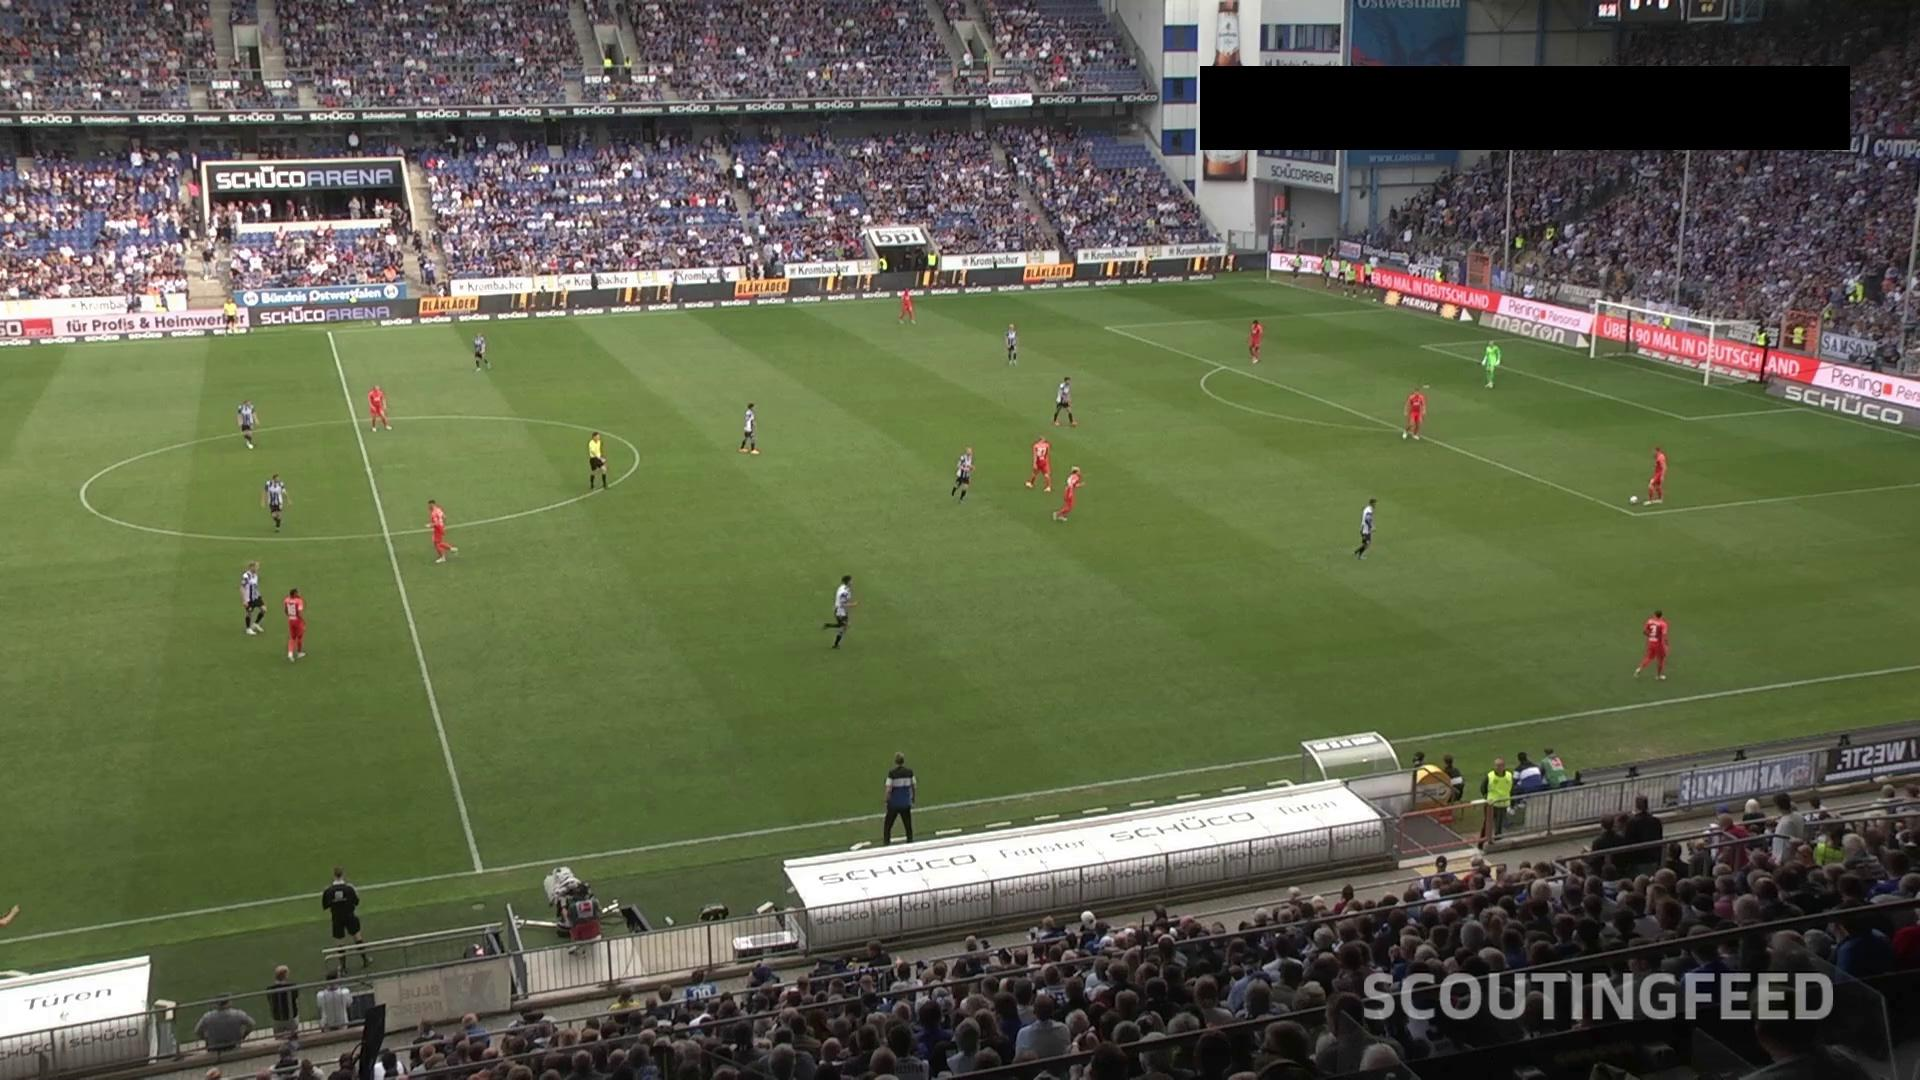Location-of-ball: (1614, 473, 1652, 520)
